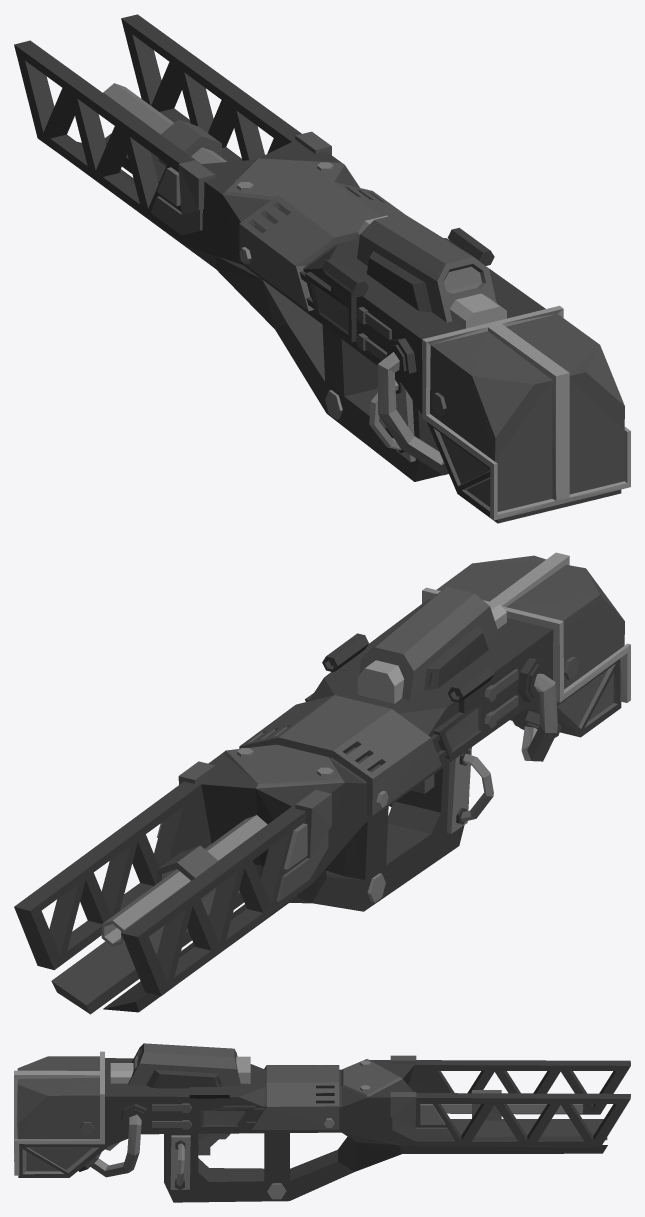
File: sniper_0.glb
3 renders of one model, top to bottom at view 1: azimuth 30°, elevation 25°; view 2: azimuth 150°, elevation 25°; view 3: azimuth 270°, elevation 25°, orthographic. The views are drawn at different scales.
Visible parts, largest first — view 1: sniper_0, sniper_scope_0; view 2: sniper_0, sniper_scope_0; view 3: sniper_0, sniper_scope_0.
Boxes of the visible parts, bbox=[...] form: sniper_0: bbox=[14, 14, 630, 523]; sniper_scope_0: bbox=[357, 213, 506, 328]; sniper_0: bbox=[14, 552, 630, 1014]; sniper_scope_0: bbox=[357, 586, 506, 703]; sniper_0: bbox=[14, 1051, 630, 1202]; sniper_scope_0: bbox=[110, 1043, 250, 1088].
Size of the model in its own units: 0.7764 by 0.9677 by 3.66.
1 material, 1 textured.
